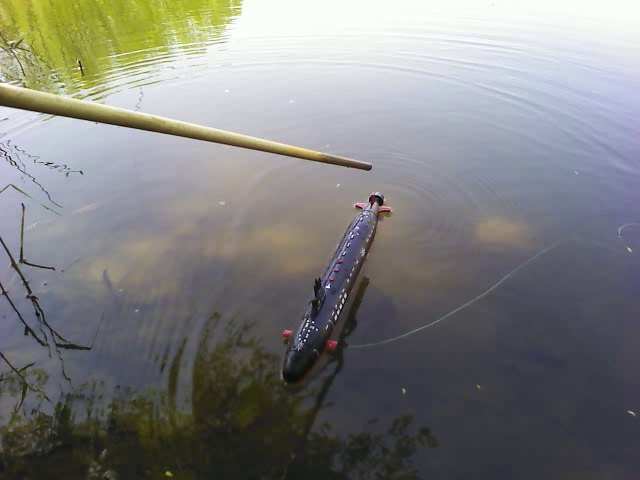submarine: (279, 186, 392, 386)
